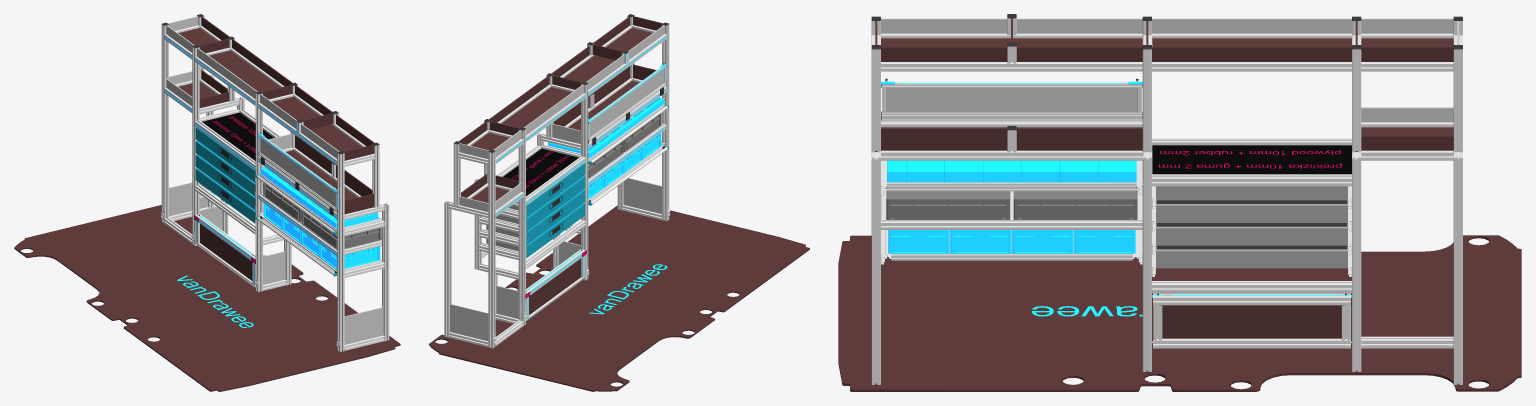
File: vd_export_regalova_vestavba_mercedes_sprinter_l2h2_49048eff.glb
The picture shows the model from 3 angles, left to right: view 1: azimuth 30°, elevation 25°; view 2: azimuth 150°, elevation 25°; view 3: azimuth 270°, elevation 25°; orthographic projection. The views are drawn at different scales.
Parts seen in each view (by area): view 1: SomeName041_Mesh_14008, 45x45x1750_noha (×4), PR10_1266x306 (×4), drawer (×4), blue_klt (×2), CUB10_395x260 (×2), dark_grey_bin, PR10_1266x395, 45x45x1267_Zx2_2 (×3), CUB6_1226x145, Multibox_Arc, PR10_1192x210 (+20 smaller); view 2: SomeName041_Mesh_14008, 45x45x1750_noha (×4), PR10_1266x306 (×4), drawer (×4), CUB10_395x260 (×2), blue_klt (×2), PR10_1266x395, 45x45x1267_Zx2_2 (×3), CUB6_1226x145, PR10_1192x210, 45x45x1200_noha, CUB10_240x260 (×2) (+20 smaller); view 3: SomeName041_Mesh_14008, Suplikocel1001057459 (×4), 45x45x1267_Zx2 (×6), dark_grey_bin, 45x45x1267_Zx2_2 (×4), CUB6_1226x145, CUB10_1292x89 (×3), PR10_1192x210, blue_klt, PR10_1266x395, PR10_1292x89 (×3), PR10_1266x306 (×4) (+23 smaller).
Boxes of the visible parts, x1=… form: SomeName041_Mesh_14008: x1=14, y1=205, x2=400, y2=391; 45x45x1750_noha (×4): x1=161, y1=24, x2=344, y2=351; PR10_1266x306 (×4): x1=178, y1=28, x2=361, y2=200; drawer (×4): x1=195, y1=127, x2=255, y2=223; blue_klt (×2): x1=258, y1=132, x2=380, y2=269; CUB10_395x260 (×2): x1=169, y1=182, x2=383, y2=344; dark_grey_bin: x1=263, y1=183, x2=381, y2=248; PR10_1266x395: x1=202, y1=112, x2=273, y2=160; 45x45x1267_Zx2_2 (×3): x1=195, y1=56, x2=337, y2=218; CUB6_1226x145: x1=260, y1=138, x2=335, y2=207; Multibox_Arc: x1=260, y1=167, x2=378, y2=228; PR10_1192x210: x1=200, y1=224, x2=252, y2=280; SomeName041_Mesh_14008: x1=429, y1=205, x2=809, y2=391; 45x45x1750_noha (×4): x1=488, y1=24, x2=669, y2=348; PR10_1266x306 (×4): x1=471, y1=28, x2=652, y2=150; drawer (×4): x1=526, y1=163, x2=585, y2=258; CUB10_395x260 (×2): x1=450, y1=178, x2=661, y2=340; blue_klt (×2): x1=588, y1=63, x2=666, y2=199; PR10_1266x395: x1=503, y1=148, x2=578, y2=196; 45x45x1267_Zx2_2 (×3): x1=526, y1=34, x2=666, y2=148; CUB6_1226x145: x1=590, y1=69, x2=664, y2=137; PR10_1192x210: x1=528, y1=258, x2=580, y2=314; 45x45x1200_noha: x1=444, y1=201, x2=451, y2=337; CUB10_240x260 (×2): x1=496, y1=241, x2=580, y2=318; SomeName041_Mesh_14008: x1=838, y1=235, x2=1521, y2=391; Suplikocel1001057459 (×4): x1=1156, y1=186, x2=1347, y2=268; 45x45x1267_Zx2 (×6): x1=881, y1=62, x2=1453, y2=348; dark_grey_bin: x1=886, y1=190, x2=1137, y2=219; 45x45x1267_Zx2_2 (×4): x1=881, y1=33, x2=1351, y2=292; CUB6_1226x145: x1=885, y1=87, x2=1137, y2=112; CUB10_1292x89 (×3): x1=1152, y1=18, x2=1453, y2=122; PR10_1192x210: x1=1160, y1=305, x2=1343, y2=338; blue_klt: x1=888, y1=230, x2=1135, y2=253; PR10_1266x395: x1=1152, y1=145, x2=1351, y2=174; PR10_1292x89 (×3): x1=1152, y1=47, x2=1453, y2=150; PR10_1266x306 (×4): x1=881, y1=38, x2=1453, y2=135.
Bounding box in the file's own units: 1774 × 1783 × 3308.
